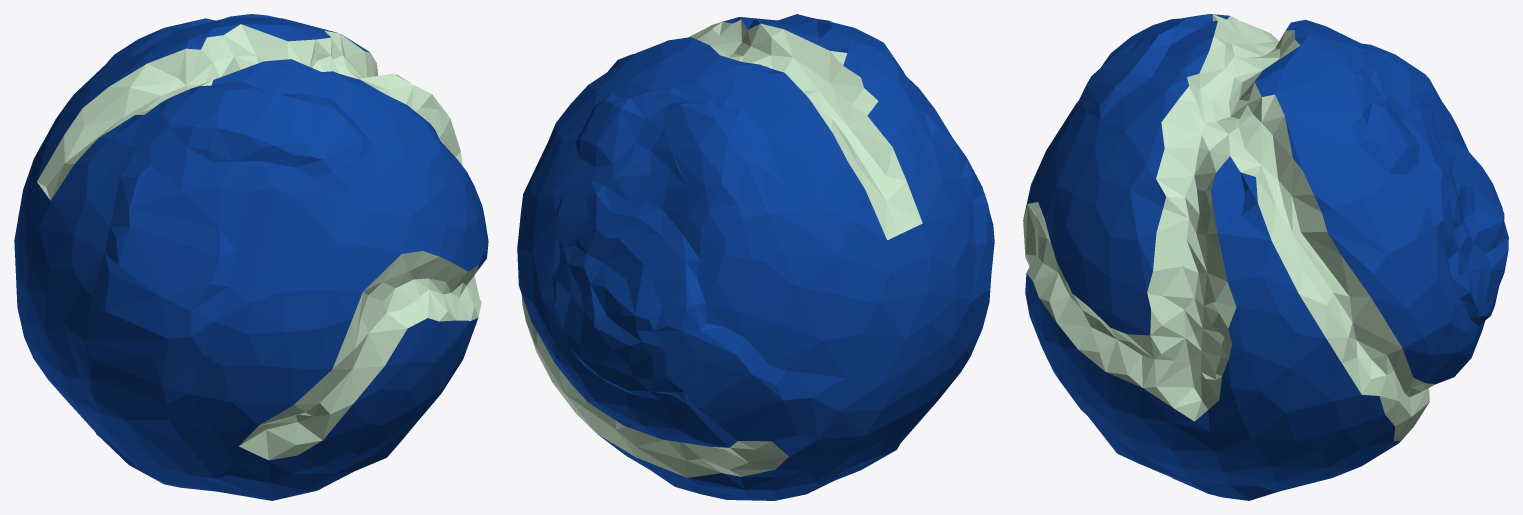
File: Planet_45.glb
3 views of the same model, side by side, from view 1: azimuth 30°, elevation 25°; view 2: azimuth 150°, elevation 25°; view 3: azimuth 270°, elevation 25° (orthographic).
Visible parts, largest first — view 1: Planet_45; view 2: Planet_45; view 3: Planet_45.
Part boxes in pixels (x1,y1,x2,y2): Planet_45: (14, 14, 488, 500); Planet_45: (517, 14, 994, 500); Planet_45: (1023, 14, 1508, 500).
Bounding box in the file's own units: 20.02 × 20.35 × 20.46.
1 material, 1 textured.
